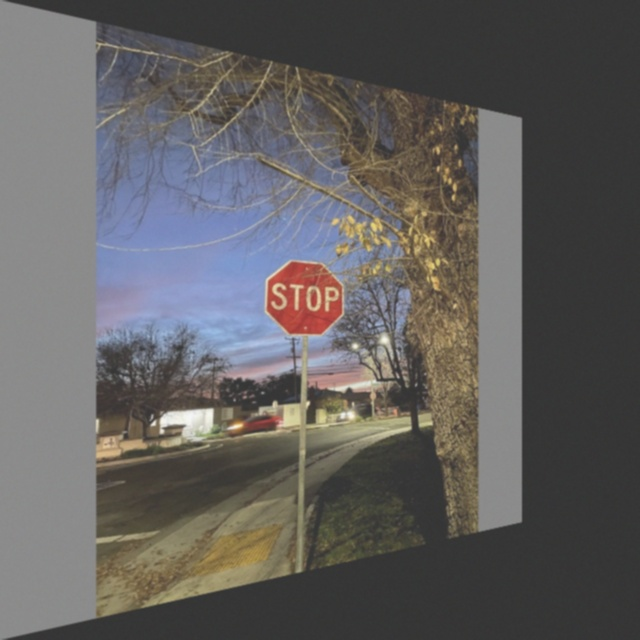Stop: (264, 259, 344, 338)
